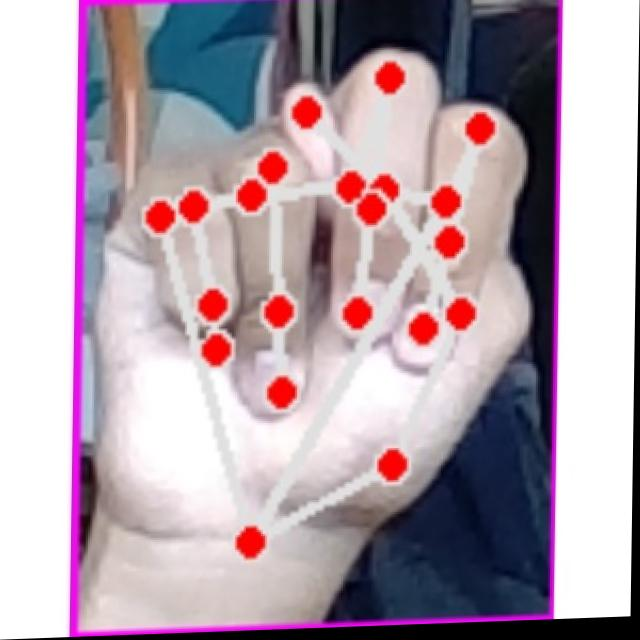N: (93, 35, 541, 585)
